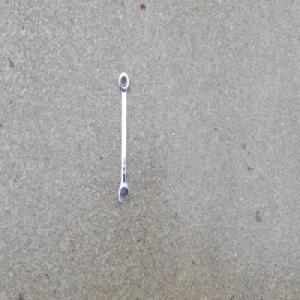Wrench: (118, 70, 130, 204)
